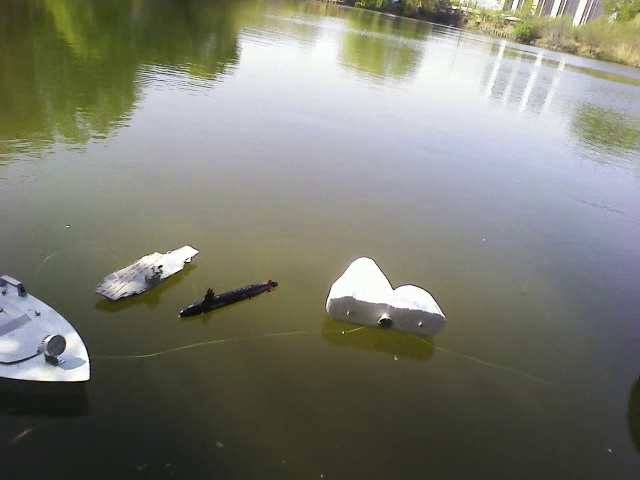aircraft_carrier: (93, 241, 199, 298)
boat: (3, 269, 94, 391)
iceberg: (322, 250, 448, 336)
submarine: (176, 277, 282, 317)
